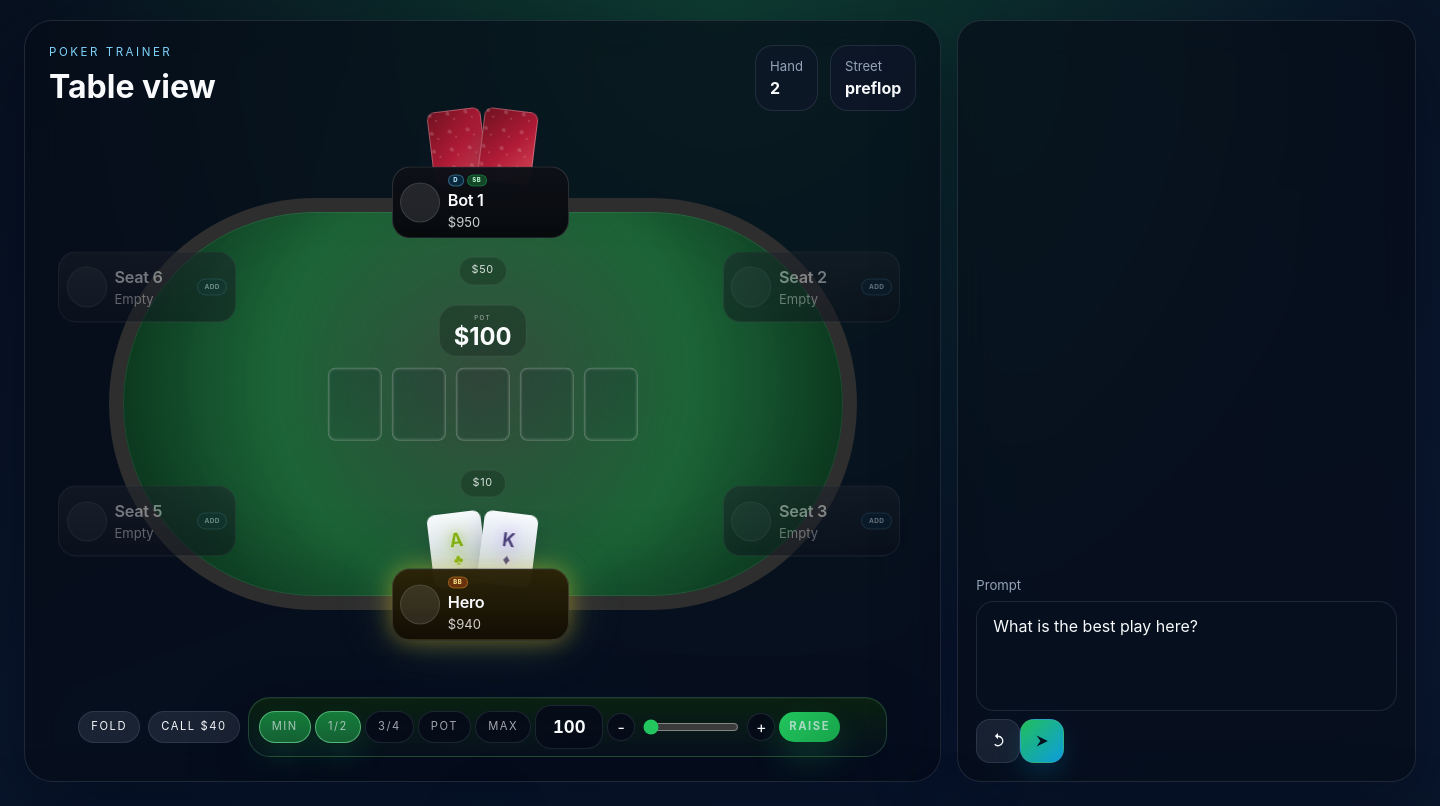
Test: App › opens a raise tray and confirms a sized raise
expect the element with class "raise-tray" is shown: met, box [248, 697, 887, 757]
expect the number field named "Raise amount" holds "100": met, box [535, 705, 603, 749]
Click the button "3/4": (389, 727) [365, 711, 414, 743]
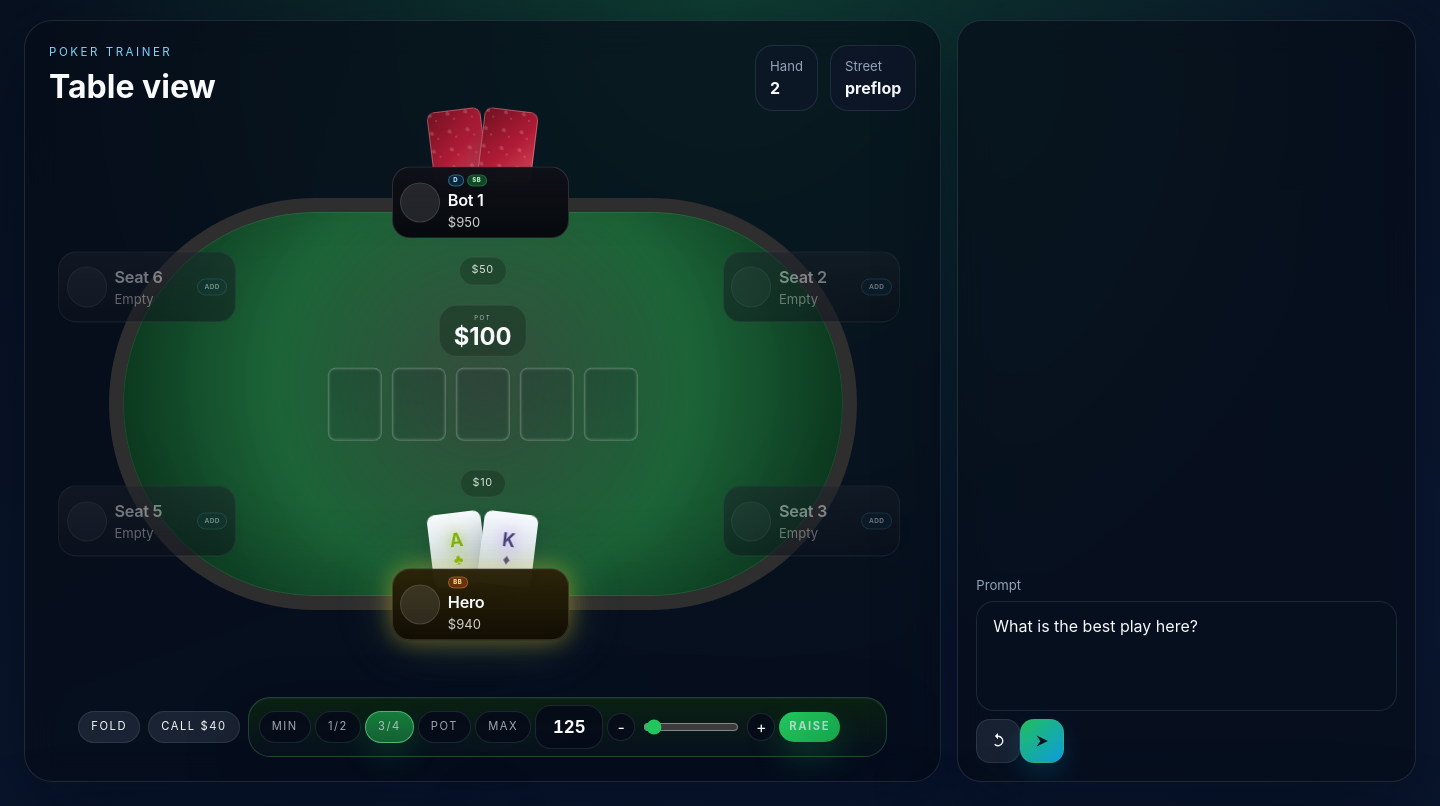
expect the number field named "Raise amount" holds "125": met, box [535, 705, 603, 749]
Click the button "RAISE": (810, 727) [779, 712, 840, 742]
(page scrolled)
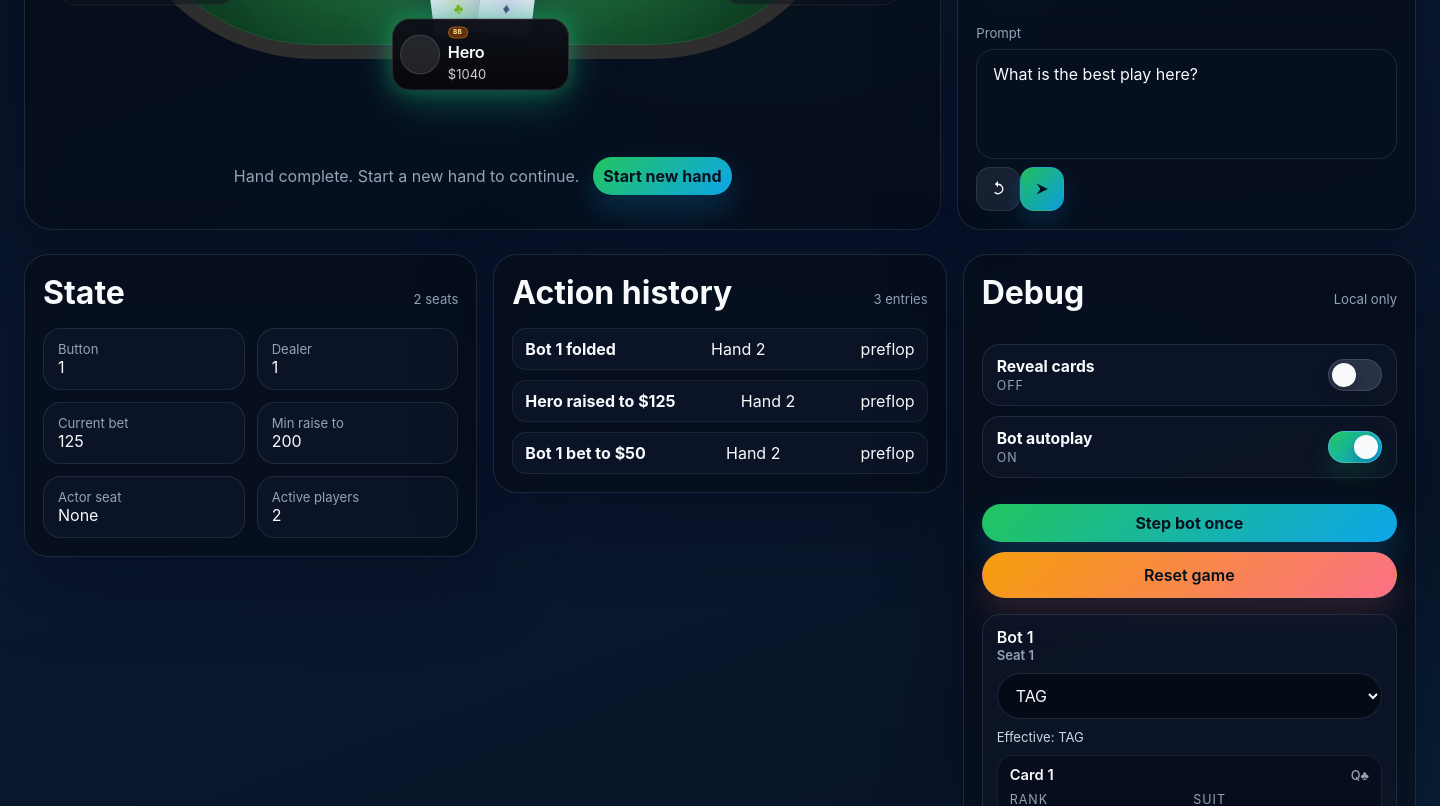
expect the text "Hero raised to $125" is shown: met, box [525, 391, 676, 411]
